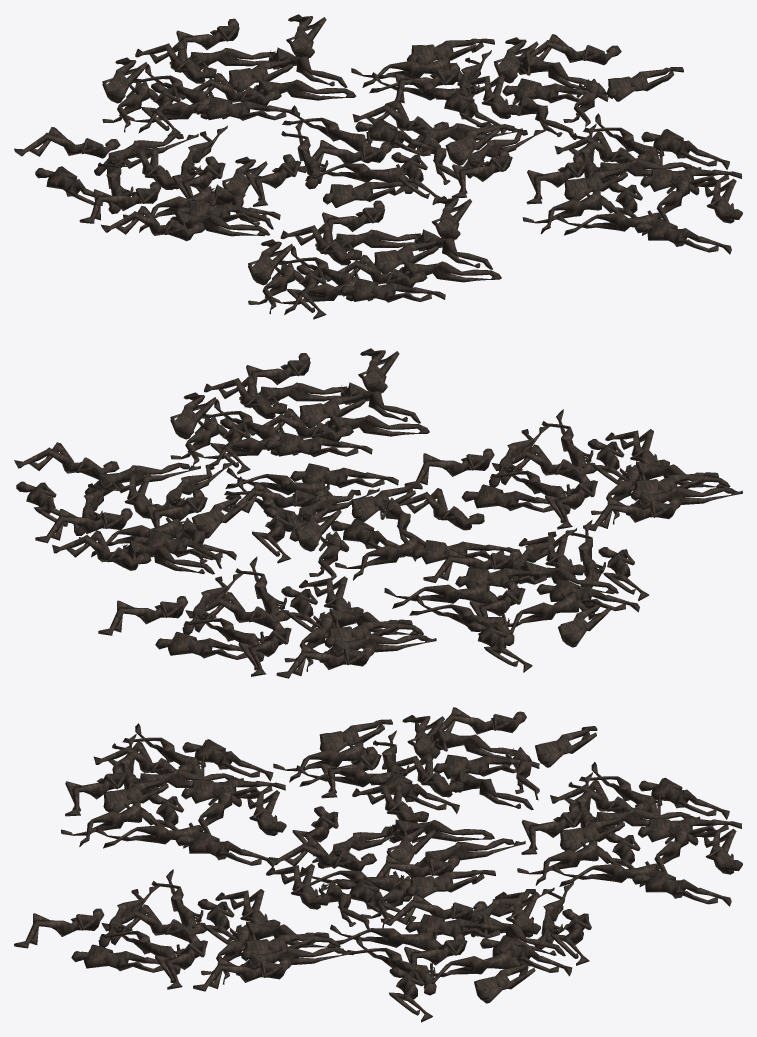
File: aeg270_523.glb
3 views of the same model, one above another, from view 1: azimuth 30°, elevation 25°; view 2: azimuth 150°, elevation 25°; view 3: azimuth 270°, elevation 25° (orthographic). The views are drawn at different scales.
Parts seen in each view (by area): view 1: mesh[0]; view 2: mesh[0]; view 3: mesh[0].
Part boxes in pixels (bbox=[...]): mesh[0]: bbox=[14, 14, 742, 319]; mesh[0]: bbox=[14, 348, 742, 678]; mesh[0]: bbox=[14, 707, 742, 1022].
Size of the model in its own units: 13.73 by 0.5727 by 13.93.
Materials: 1 (1 with a texture image).
